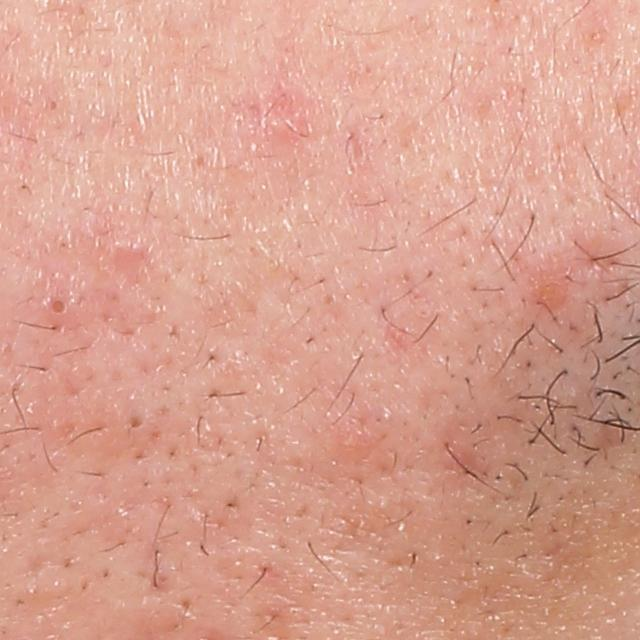comedo: (126, 416, 144, 433)
